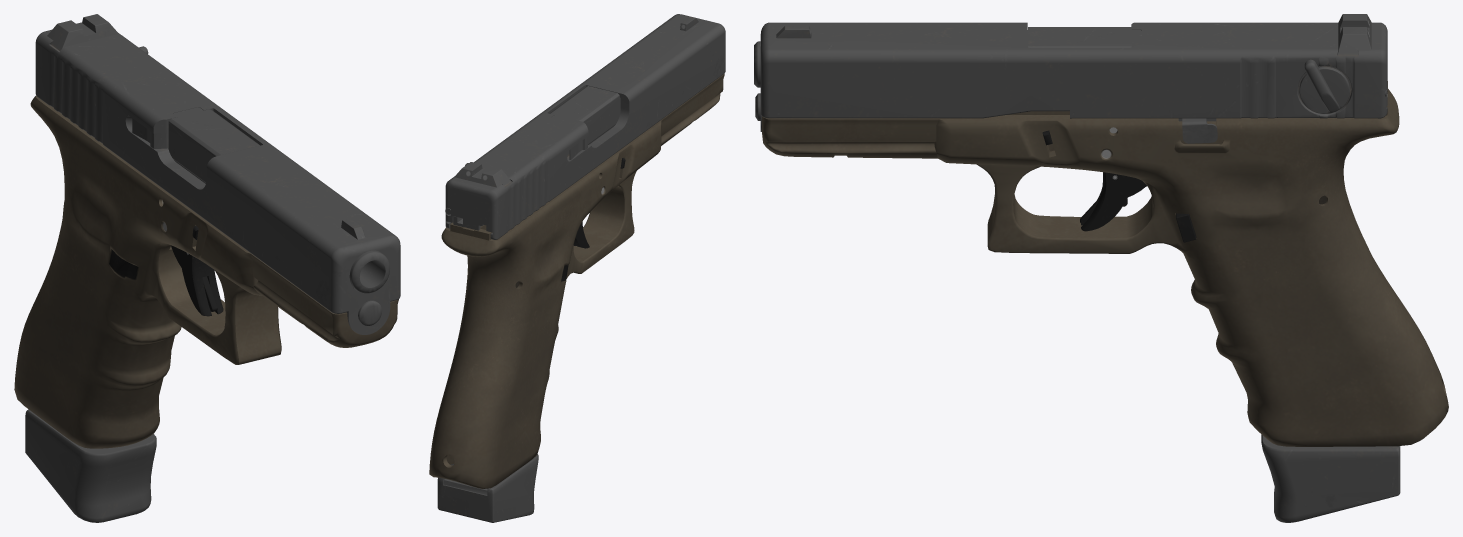
The picture shows the model from 3 angles, left to right: view 1: azimuth 30°, elevation 25°; view 2: azimuth 150°, elevation 25°; view 3: azimuth 270°, elevation 25°; orthographic projection. The views are drawn at different scales.
Parts seen in each view (by area): view 1: Object_20, Object_18; view 2: Object_20, Object_18; view 3: Object_20, Object_18.
Part boxes in pixels (bbox=[...]): Object_20: bbox=[14, 14, 400, 448]; Object_18: bbox=[25, 160, 177, 522]; Object_20: bbox=[429, 14, 725, 488]; Object_18: bbox=[437, 454, 538, 522]; Object_20: bbox=[754, 14, 1448, 446]; Object_18: bbox=[1178, 118, 1400, 522].
Size of what is drawn, in the model's own units: 0.0298 by 0.1579 by 0.2049.
Materials: 1 (1 with a texture image).
